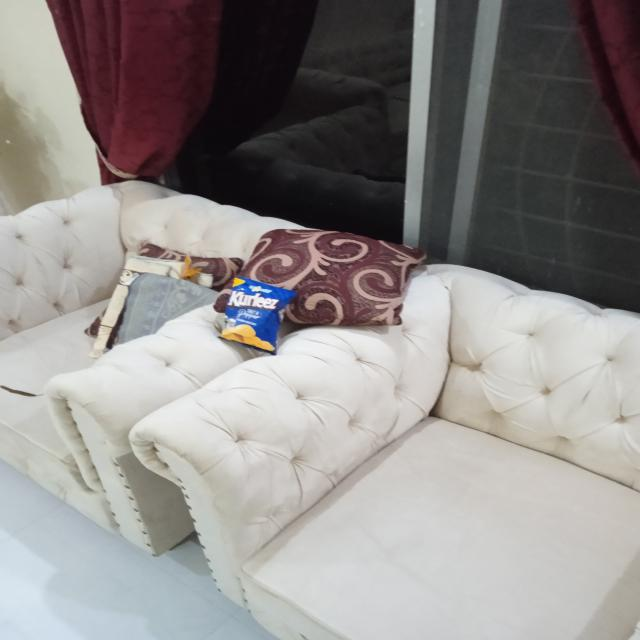Plastic: (218, 275, 302, 357)
